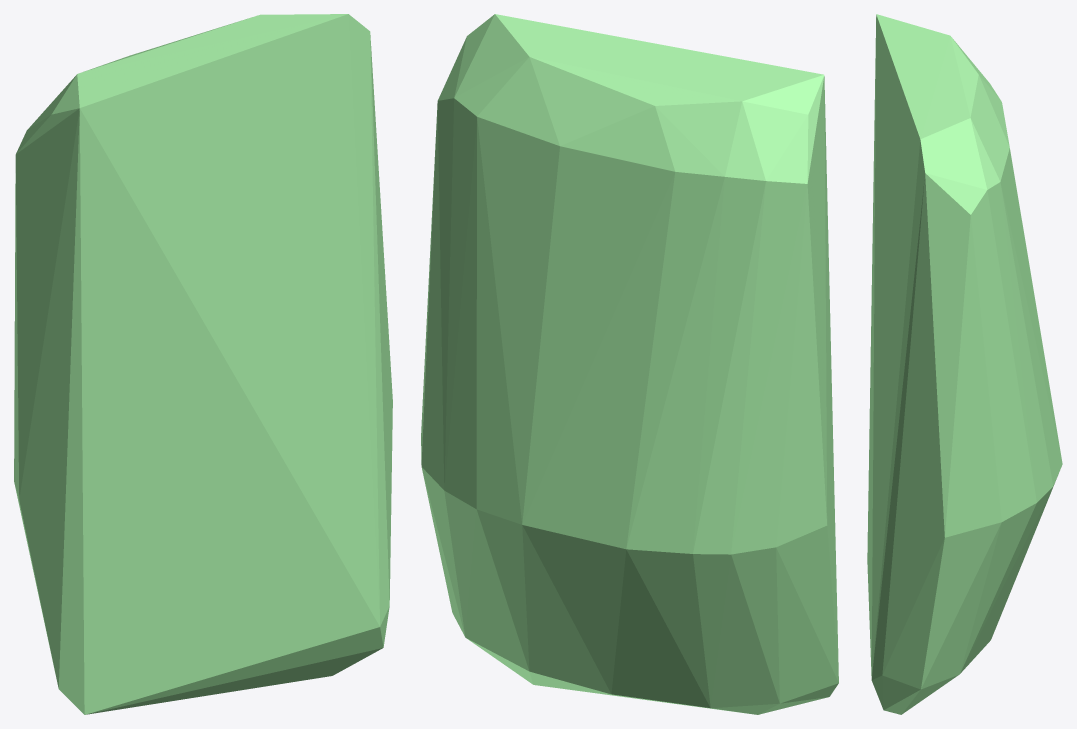
File: linkhou_LR4_R560_link4_respondable_coll_12.dae
3 renders of one model, left to right at view 1: azimuth 30°, elevation 25°; view 2: azimuth 150°, elevation 25°; view 3: azimuth 270°, elevation 25°, orthographic. The views are drawn at different scales.
Parts seen in each view (by area): view 1: Node_00000209DB3AC2E0; view 2: Node_00000209DB3AC2E0; view 3: Node_00000209DB3AC2E0.
Boxes of the visible parts, x1=… form: Node_00000209DB3AC2E0: x1=14, y1=14, x2=392, y2=714; Node_00000209DB3AC2E0: x1=421, y1=14, x2=838, y2=714; Node_00000209DB3AC2E0: x1=867, y1=14, x2=1062, y2=714.
Bounding box in the file's own units: 0.0769 × 0.1245 × 0.0375.
